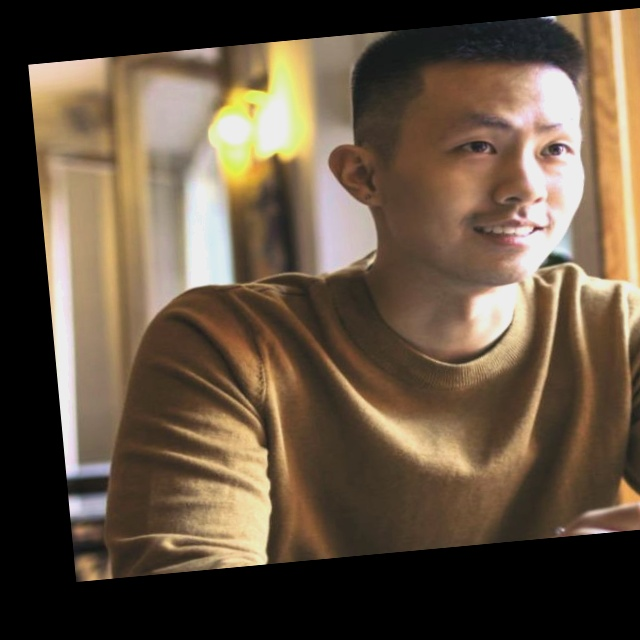Sin_Casco_Mascarrilla: (325, 13, 614, 296)
Sin_Chaleco: (155, 250, 640, 572)
